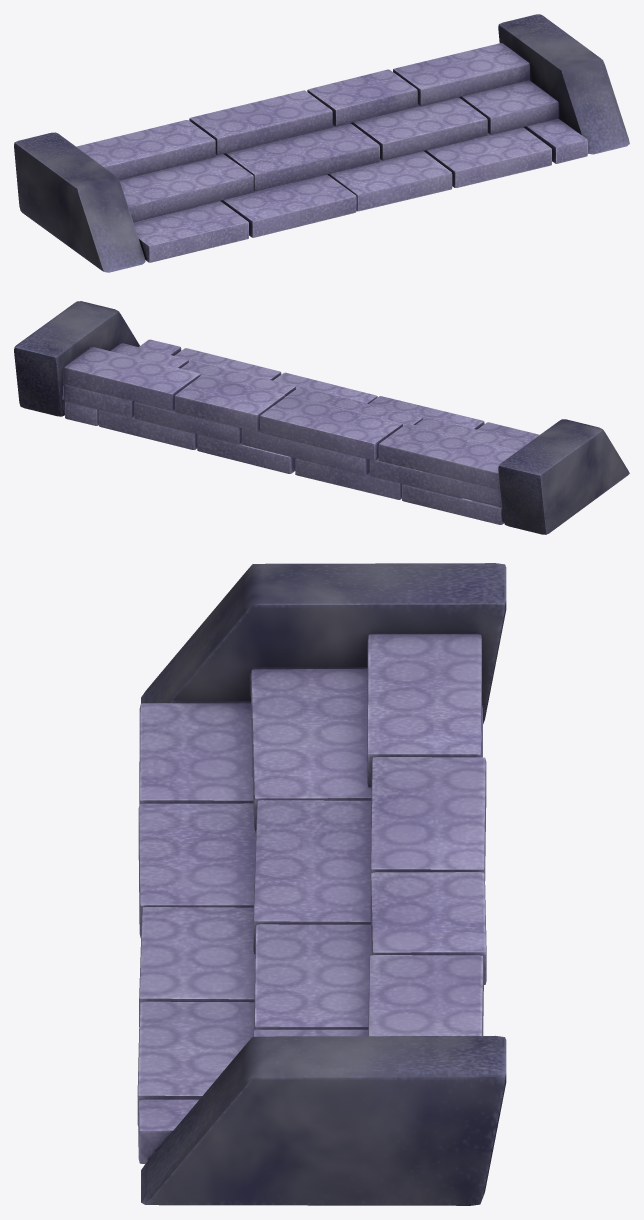
Rendered from Cosmos_Escalier.fbx.
3 renders of one model, top to bottom at view 1: azimuth 30°, elevation 25°; view 2: azimuth 150°, elevation 25°; view 3: azimuth 270°, elevation 25°, orthographic. The views are drawn at different scales.
Parts seen in each view (by area): view 1: Cosmos_Escalier; view 2: Cosmos_Escalier; view 3: Cosmos_Escalier.
Boxes of the visible parts, x1,y1,x2,y2 form: Cosmos_Escalier: (14, 14, 629, 272); Cosmos_Escalier: (14, 301, 629, 534); Cosmos_Escalier: (137, 563, 506, 1205).
Bounding box in the file's own units: 1920 × 230 × 580.
1 material, 1 textured.
